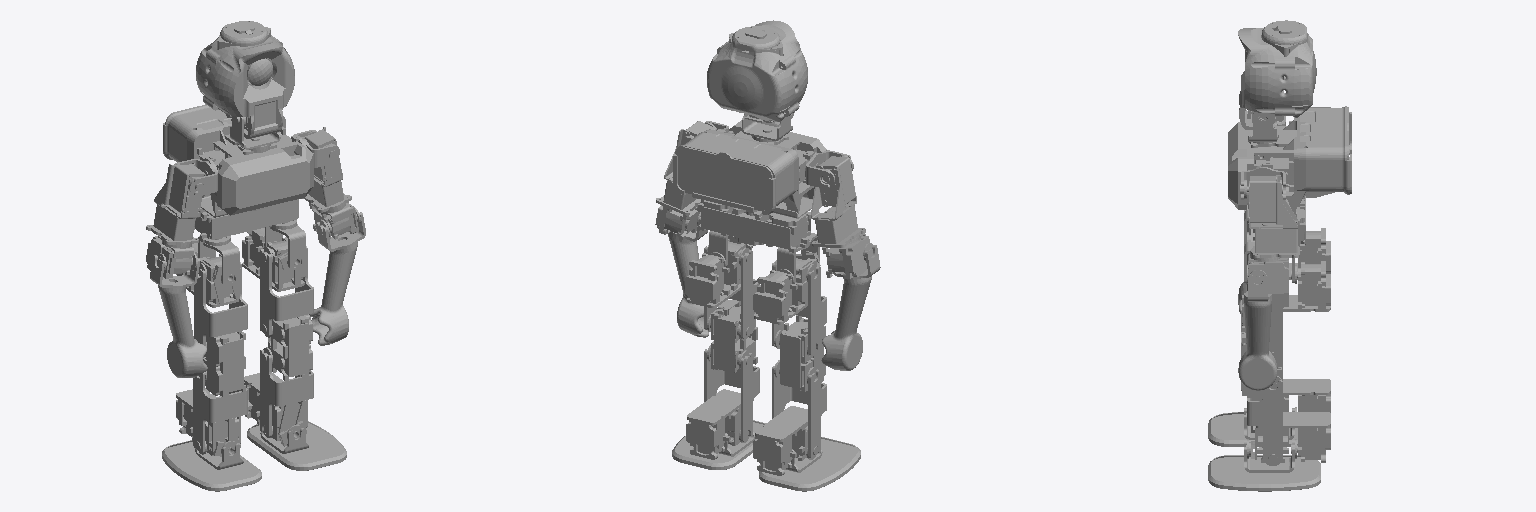
--- What the picture shows (computed from the rendered views, not written in the file) ---
Views: 3 orthographic renders of the robot side by side, from view 1: azimuth 30°, elevation 25°; view 2: azimuth 150°, elevation 25°; view 3: azimuth 270°, elevation 25°.
Robot: roki — 26 links, 25 joints (25 revolute); root link base_link; default pose: every joint at zero.
Links seen in each view (by area): view 1: base_link, Robot_Football_Player_SKS-2501_Head_B0348_Head_Base_06v1_1, Hand_Football_Player_05_1, Hand_Football_Player_05__1__1, roki_Robot_Football_Player_SKS-2501_Servov12_10__v1_1__1, Shoe_Flex_1, Shoe_Flex_1__1, Knee_1__1, Waist_1, Knee_1__1__1, roki2_simlify_Dual_Servo_Al_022Copyv1__1__1, Hip_Shin_Carbon_2 (+13 smaller); view 2: base_link, Robot_Football_Player_SKS-2501_Head_B0348_Head_Base_06v1_1, Waist_1, roki_Robot_Football_Player_SKS-2501_Servov12_10__v1_1__1, Hand_Football_Player_05__1__1, roki2_simlify_Dual_Servo_Al_022Copyv1_2, Dual_Servo_Al_022__1__1, Dual_Servo_Al_022_3, roki2_simlify_Dual_Servo_Al_022Copyv1__1__1, Shoe_Flex_1, Knee_1__1, Knee_1__1__1 (+12 smaller); view 3: base_link, Robot_Football_Player_SKS-2501_Head_B0348_Head_Base_06v1_1, roki_Robot_Football_Player_SKS-2501_Servov12_10_v1_1, Shoe_Flex_1__1, Hand_Football_Player_05_1, roki2_simlify_Dual_Servo_Al_022Copyv1_2, Hip_Shin_Carbon_1__1__1, roki2_simlify_Dual_Servo_Al_022Copyv1__1__1, Shoe_Flex_1, Dual_Servo_Al_022_3, Elbow_Bracket_01_1__1, Dual_Servo_Al_022__1__1 (+3 smaller).
Boxes of the visible links, box(x1,y1,x2,y2) form: base_link: box(163, 104, 313, 217); Robot_Football_Player_SKS-2501_Head_B0348_Head_Base_06v1_1: box(196, 21, 294, 138); Hand_Football_Player_05_1: box(309, 212, 365, 345); Hand_Football_Player_05__1__1: box(150, 255, 207, 377); roki_Robot_Football_Player_SKS-2501_Servov12_10__v1_1__1: box(146, 163, 205, 248); Shoe_Flex_1: box(162, 440, 261, 491); Shoe_Flex_1__1: box(247, 421, 346, 470); Knee_1__1: box(261, 314, 312, 381); Waist_1: box(194, 199, 298, 245); Knee_1__1__1: box(198, 332, 245, 396); roki2_simlify_Dual_Servo_Al_022Copyv1__1__1: box(242, 228, 307, 291); Hip_Shin_Carbon_2: box(260, 246, 313, 335); base_link: box(673, 120, 826, 218); Robot_Football_Player_SKS-2501_Head_B0348_Head_Base_06v1_1: box(707, 20, 807, 126); Waist_1: box(698, 199, 811, 252); roki_Robot_Football_Player_SKS-2501_Servov12_10__v1_1__1: box(811, 155, 865, 247); Hand_Football_Player_05__1__1: box(821, 245, 880, 370); roki2_simlify_Dual_Servo_Al_022Copyv1_2: box(686, 389, 749, 459); Dual_Servo_Al_022__1__1: box(753, 251, 820, 324); Dual_Servo_Al_022_3: box(753, 406, 818, 475); roki2_simlify_Dual_Servo_Al_022Copyv1__1__1: box(685, 235, 752, 307); Shoe_Flex_1: box(759, 437, 860, 491); Knee_1__1: box(707, 299, 757, 372); Knee_1__1__1: box(774, 315, 825, 391); base_link: box(1228, 106, 1351, 216); Robot_Football_Player_SKS-2501_Head_B0348_Head_Base_06v1_1: box(1238, 20, 1316, 129); roki_Robot_Football_Player_SKS-2501_Servov12_10_v1_1: box(1240, 175, 1299, 260); Shoe_Flex_1__1: box(1208, 441, 1320, 491); Hand_Football_Player_05_1: box(1238, 272, 1276, 390); roki2_simlify_Dual_Servo_Al_022Copyv1_2: box(1246, 412, 1330, 465); Hip_Shin_Carbon_1__1__1: box(1247, 380, 1282, 462); roki2_simlify_Dual_Servo_Al_022Copyv1__1__1: box(1247, 261, 1330, 311); Shoe_Flex_1: box(1208, 408, 1297, 446); Dual_Servo_Al_022_3: box(1246, 379, 1330, 432); Elbow_Bracket_01_1__1: box(1248, 254, 1288, 293); Dual_Servo_Al_022__1__1: box(1247, 228, 1330, 279).
Size in the robot's own frame: 0.2478 by 0.1469 by 0.4834 metres.
Meshes: 26 distinct files referenced, 26 mesh visuals loaded (26 binary STL).

URDF robot description (roki):
<?xml version="1.0" ?>
<!-- =================================================================================== -->
<!-- |    This document was autogenerated by xacro from roki                           | -->
<!-- |    EDITING THIS FILE BY HAND IS NOT RECOMMENDED                                 | -->
<!-- =================================================================================== -->
<robot xmlns:xacro="http://www.ros.org/wiki/xacro" name="roki">
  <material name="silver">
    <color rgba="0.700 0.700 0.700 1.000"/>
  </material>
  <transmission name="waist_yaw_tran">
    <type>transmission_interface/SimpleTransmission</type>
    <joint name="waist_yaw">
      <hardwareInterface>hardware_interface/EffortJointInterface</hardwareInterface>
    </joint>
    <actuator name="waist_yaw_actr">
      <hardwareInterface>hardware_interface/EffortJointInterface</hardwareInterface>
      <mechanicalReduction>1</mechanicalReduction>
    </actuator>
  </transmission>
  <transmission name="left_hip_yaw_tran">
    <type>transmission_interface/SimpleTransmission</type>
    <joint name="left_hip_yaw">
      <hardwareInterface>hardware_interface/EffortJointInterface</hardwareInterface>
    </joint>
    <actuator name="left_hip_yaw_actr">
      <hardwareInterface>hardware_interface/EffortJointInterface</hardwareInterface>
      <mechanicalReduction>1</mechanicalReduction>
    </actuator>
  </transmission>
  <transmission name="right_hip_yaw_tran">
    <type>transmission_interface/SimpleTransmission</type>
    <joint name="right_hip_yaw">
      <hardwareInterface>hardware_interface/EffortJointInterface</hardwareInterface>
    </joint>
    <actuator name="right_hip_yaw_actr">
      <hardwareInterface>hardware_interface/EffortJointInterface</hardwareInterface>
      <mechanicalReduction>1</mechanicalReduction>
    </actuator>
  </transmission>
  <transmission name="head_yaw_tran">
    <type>transmission_interface/SimpleTransmission</type>
    <joint name="head_yaw">
      <hardwareInterface>hardware_interface/EffortJointInterface</hardwareInterface>
    </joint>
    <actuator name="head_yaw_actr">
      <hardwareInterface>hardware_interface/EffortJointInterface</hardwareInterface>
      <mechanicalReduction>1</mechanicalReduction>
    </actuator>
  </transmission>
  <transmission name="head_pitch_tran">
    <type>transmission_interface/SimpleTransmission</type>
    <joint name="head_pitch">
      <hardwareInterface>hardware_interface/EffortJointInterface</hardwareInterface>
    </joint>
    <actuator name="head_pitch_actr">
      <hardwareInterface>hardware_interface/EffortJointInterface</hardwareInterface>
      <mechanicalReduction>1</mechanicalReduction>
    </actuator>
  </transmission>
  <transmission name="left_shoulder_roll_tran">
    <type>transmission_interface/SimpleTransmission</type>
    <joint name="left_shoulder_roll">
      <hardwareInterface>hardware_interface/EffortJointInterface</hardwareInterface>
    </joint>
    <actuator name="left_shoulder_roll_actr">
      <hardwareInterface>hardware_interface/EffortJointInterface</hardwareInterface>
      <mechanicalReduction>1</mechanicalReduction>
    </actuator>
  </transmission>
  <transmission name="right_shoulder_roll_tran">
    <type>transmission_interface/SimpleTransmission</type>
    <joint name="right_shoulder_roll">
      <hardwareInterface>hardware_interface/EffortJointInterface</hardwareInterface>
    </joint>
    <actuator name="right_shoulder_roll_actr">
      <hardwareInterface>hardware_interface/EffortJointInterface</hardwareInterface>
      <mechanicalReduction>1</mechanicalReduction>
    </actuator>
  </transmission>
  <transmission name="right_elbow_yaw_tran">
    <type>transmission_interface/SimpleTransmission</type>
    <joint name="right_elbow_yaw">
      <hardwareInterface>hardware_interface/EffortJointInterface</hardwareInterface>
    </joint>
    <actuator name="right_elbow_yaw_actr">
      <hardwareInterface>hardware_interface/EffortJointInterface</hardwareInterface>
      <mechanicalReduction>1</mechanicalReduction>
    </actuator>
  </transmission>
  <transmission name="left_elbow_yaw_tran">
    <type>transmission_interface/SimpleTransmission</type>
    <joint name="left_elbow_yaw">
      <hardwareInterface>hardware_interface/EffortJointInterface</hardwareInterface>
    </joint>
    <actuator name="left_elbow_yaw_actr">
      <hardwareInterface>hardware_interface/EffortJointInterface</hardwareInterface>
      <mechanicalReduction>1</mechanicalReduction>
    </actuator>
  </transmission>
  <transmission name="left_elbow_pitch_tran">
    <type>transmission_interface/SimpleTransmission</type>
    <joint name="left_elbow_pitch">
      <hardwareInterface>hardware_interface/EffortJointInterface</hardwareInterface>
    </joint>
    <actuator name="left_elbow_pitch_actr">
      <hardwareInterface>hardware_interface/EffortJointInterface</hardwareInterface>
      <mechanicalReduction>1</mechanicalReduction>
    </actuator>
  </transmission>
  <transmission name="right_elbow_pitch_tran">
    <type>transmission_interface/SimpleTransmission</type>
    <joint name="right_elbow_pitch">
      <hardwareInterface>hardware_interface/EffortJointInterface</hardwareInterface>
    </joint>
    <actuator name="right_elbow_pitch_actr">
      <hardwareInterface>hardware_interface/EffortJointInterface</hardwareInterface>
      <mechanicalReduction>1</mechanicalReduction>
    </actuator>
  </transmission>
  <transmission name="left_shoulder_pitch_tran">
    <type>transmission_interface/SimpleTransmission</type>
    <joint name="left_shoulder_pitch">
      <hardwareInterface>hardware_interface/EffortJointInterface</hardwareInterface>
    </joint>
    <actuator name="left_shoulder_pitch_actr">
      <hardwareInterface>hardware_interface/EffortJointInterface</hardwareInterface>
      <mechanicalReduction>1</mechanicalReduction>
    </actuator>
  </transmission>
  <transmission name="right_shoulder_pitch_tran">
    <type>transmission_interface/SimpleTransmission</type>
    <joint name="right_shoulder_pitch">
      <hardwareInterface>hardware_interface/EffortJointInterface</hardwareInterface>
    </joint>
    <actuator name="right_shoulder_pitch_actr">
      <hardwareInterface>hardware_interface/EffortJointInterface</hardwareInterface>
      <mechanicalReduction>1</mechanicalReduction>
    </actuator>
  </transmission>
  <transmission name="left_upper_knee_tran">
    <type>transmission_interface/SimpleTransmission</type>
    <joint name="left_upper_knee">
      <hardwareInterface>hardware_interface/EffortJointInterface</hardwareInterface>
    </joint>
    <actuator name="left_upper_knee_actr">
      <hardwareInterface>hardware_interface/EffortJointInterface</hardwareInterface>
      <mechanicalReduction>1</mechanicalReduction>
    </actuator>
  </transmission>
  <transmission name="left_bottom_knee_tran">
    <type>transmission_interface/SimpleTransmission</type>
    <joint name="left_bottom_knee">
      <hardwareInterface>hardware_interface/EffortJointInterface</hardwareInterface>
    </joint>
    <actuator name="left_bottom_knee_actr">
      <hardwareInterface>hardware_interface/EffortJointInterface</hardwareInterface>
      <mechanicalReduction>1</mechanicalReduction>
    </actuator>
  </transmission>
  <transmission name="right_upper_knee_tran">
    <type>transmission_interface/SimpleTransmission</type>
    <joint name="right_upper_knee">
      <hardwareInterface>hardware_interface/EffortJointInterface</hardwareInterface>
    </joint>
    <actuator name="right_upper_knee_actr">
      <hardwareInterface>hardware_interface/EffortJointInterface</hardwareInterface>
      <mechanicalReduction>1</mechanicalReduction>
    </actuator>
  </transmission>
  <transmission name="right_bottom_knee_tran">
    <type>transmission_interface/SimpleTransmission</type>
    <joint name="right_bottom_knee">
      <hardwareInterface>hardware_interface/EffortJointInterface</hardwareInterface>
    </joint>
    <actuator name="right_bottom_knee_actr">
      <hardwareInterface>hardware_interface/EffortJointInterface</hardwareInterface>
      <mechanicalReduction>1</mechanicalReduction>
    </actuator>
  </transmission>
  <transmission name="right_ankle_pitch_tran">
    <type>transmission_interface/SimpleTransmission</type>
    <joint name="right_ankle_pitch">
      <hardwareInterface>hardware_interface/EffortJointInterface</hardwareInterface>
    </joint>
    <actuator name="right_ankle_pitch_actr">
      <hardwareInterface>hardware_interface/EffortJointInterface</hardwareInterface>
      <mechanicalReduction>1</mechanicalReduction>
    </actuator>
  </transmission>
  <transmission name="left_ankle_roll_tran">
    <type>transmission_interface/SimpleTransmission</type>
    <joint name="left_ankle_roll">
      <hardwareInterface>hardware_interface/EffortJointInterface</hardwareInterface>
    </joint>
    <actuator name="left_ankle_roll_actr">
      <hardwareInterface>hardware_interface/EffortJointInterface</hardwareInterface>
      <mechanicalReduction>1</mechanicalReduction>
    </actuator>
  </transmission>
  <transmission name="left_ankle_pitch_tran">
    <type>transmission_interface/SimpleTransmission</type>
    <joint name="left_ankle_pitch">
      <hardwareInterface>hardware_interface/EffortJointInterface</hardwareInterface>
    </joint>
    <actuator name="left_ankle_pitch_actr">
      <hardwareInterface>hardware_interface/EffortJointInterface</hardwareInterface>
      <mechanicalReduction>1</mechanicalReduction>
    </actuator>
  </transmission>
  <transmission name="right_ankle_roll_tran">
    <type>transmission_interface/SimpleTransmission</type>
    <joint name="right_ankle_roll">
      <hardwareInterface>hardware_interface/EffortJointInterface</hardwareInterface>
    </joint>
    <actuator name="right_ankle_roll_actr">
      <hardwareInterface>hardware_interface/EffortJointInterface</hardwareInterface>
      <mechanicalReduction>1</mechanicalReduction>
    </actuator>
  </transmission>
  <transmission name="right_hip_roll_tran">
    <type>transmission_interface/SimpleTransmission</type>
    <joint name="right_hip_roll">
      <hardwareInterface>hardware_interface/EffortJointInterface</hardwareInterface>
    </joint>
    <actuator name="right_hip_roll_actr">
      <hardwareInterface>hardware_interface/EffortJointInterface</hardwareInterface>
      <mechanicalReduction>1</mechanicalReduction>
    </actuator>
  </transmission>
  <transmission name="left_hip_roll_tran">
    <type>transmission_interface/SimpleTransmission</type>
    <joint name="left_hip_roll">
      <hardwareInterface>hardware_interface/EffortJointInterface</hardwareInterface>
    </joint>
    <actuator name="left_hip_roll_actr">
      <hardwareInterface>hardware_interface/EffortJointInterface</hardwareInterface>
      <mechanicalReduction>1</mechanicalReduction>
    </actuator>
  </transmission>
  <transmission name="left_hip_pitch_tran">
    <type>transmission_interface/SimpleTransmission</type>
    <joint name="left_hip_pitch">
      <hardwareInterface>hardware_interface/EffortJointInterface</hardwareInterface>
    </joint>
    <actuator name="left_hip_pitch_actr">
      <hardwareInterface>hardware_interface/EffortJointInterface</hardwareInterface>
      <mechanicalReduction>1</mechanicalReduction>
    </actuator>
  </transmission>
  <transmission name="right_hip_pitch_tran">
    <type>transmission_interface/SimpleTransmission</type>
    <joint name="right_hip_pitch">
      <hardwareInterface>hardware_interface/EffortJointInterface</hardwareInterface>
    </joint>
    <actuator name="right_hip_pitch_actr">
      <hardwareInterface>hardware_interface/EffortJointInterface</hardwareInterface>
      <mechanicalReduction>1</mechanicalReduction>
    </actuator>
  </transmission>
  <gazebo>
    <plugin name="control" filename="libgazebo_ros_control.so"/>
  </gazebo>
  <gazebo reference="base_link">
    <material>Gazebo/Silver</material>
    <mu1>0.2</mu1>
    <mu2>0.2</mu2>
    <selfCollide>true</selfCollide>
    <gravity>true</gravity>
  </gazebo>
  <gazebo reference="Waist_1">
    <material>Gazebo/Silver</material>
    <mu1>0.2</mu1>
    <mu2>0.2</mu2>
    <selfCollide>true</selfCollide>
  </gazebo>
  <gazebo reference="U_Dual_Lever_Carbon_1__1">
    <material>Gazebo/Silver</material>
    <mu1>0.2</mu1>
    <mu2>0.2</mu2>
    <selfCollide>true</selfCollide>
  </gazebo>
  <gazebo reference="U_Dual_Lever_Carbon_2">
    <material>Gazebo/Silver</material>
    <mu1>0.2</mu1>
    <mu2>0.2</mu2>
    <selfCollide>true</selfCollide>
  </gazebo>
  <gazebo reference="Robot_Football_Player_SKS-2501_Neck_Carbonv2_1">
    <material>Gazebo/Silver</material>
    <mu1>0.2</mu1>
    <mu2>0.2</mu2>
    <selfCollide>true</selfCollide>
  </gazebo>
  <gazebo reference="Robot_Football_Player_SKS-2501_Head_B0348_Head_Base_06v1_1">
    <material>Gazebo/Silver</material>
    <mu1>0.2</mu1>
    <mu2>0.2</mu2>
    <selfCollide>true</selfCollide>
  </gazebo>
  <gazebo reference="roki_Robot_Football_Player_SKS-2501_Servov12_10_v1_1">
    <material>Gazebo/Silver</material>
    <mu1>0.2</mu1>
    <mu2>0.2</mu2>
    <selfCollide>true</selfCollide>
  </gazebo>
  <gazebo reference="roki_Robot_Football_Player_SKS-2501_Servov12_10__v1_1__1">
    <material>Gazebo/Silver</material>
    <mu1>0.2</mu1>
    <mu2>0.2</mu2>
    <selfCollide>true</selfCollide>
  </gazebo>
  <gazebo reference="Elbow_Bracket_01_1">
    <material>Gazebo/Silver</material>
    <mu1>0.2</mu1>
    <mu2>0.2</mu2>
    <selfCollide>true</selfCollide>
  </gazebo>
  <gazebo reference="Elbow_Bracket_01_1__1">
    <material>Gazebo/Silver</material>
    <mu1>0.2</mu1>
    <mu2>0.2</mu2>
    <selfCollide>true</selfCollide>
  </gazebo>
  <gazebo reference="Hand_Football_Player_05_1">
    <material>Gazebo/Silver</material>
    <mu1>0.2</mu1>
    <mu2>0.2</mu2>
    <selfCollide>true</selfCollide>
  </gazebo>
  <gazebo reference="Hand_Football_Player_05__1__1">
    <material>Gazebo/Silver</material>
    <mu1>0.2</mu1>
    <mu2>0.2</mu2>
    <selfCollide>true</selfCollide>
  </gazebo>
  <gazebo reference="U_Lever_Carbon_2__1">
    <material>Gazebo/Silver</material>
    <mu1>0.2</mu1>
    <mu2>0.2</mu2>
    <selfCollide>true</selfCollide>
  </gazebo>
  <gazebo reference="U_Lever_Carbon_1__1">
    <material>Gazebo/Silver</material>
    <mu1>0.2</mu1>
    <mu2>0.2</mu2>
    <selfCollide>true</selfCollide>
  </gazebo>
  <gazebo reference="Knee_1__1">
    <material>Gazebo/Silver</material>
    <mu1>0.2</mu1>
    <mu2>0.2</mu2>
    <selfCollide>true</selfCollide>
  </gazebo>
  <gazebo reference="Hip_Shin_Carbon_1__1__1">
    <material>Gazebo/Silver</material>
    <mu1>0.2</mu1>
    <mu2>0.2</mu2>
    <selfCollide>true</selfCollide>
  </gazebo>
  <gazebo reference="Knee_1__1__1">
    <material>Gazebo/Silver</material>
    <mu1>0.2</mu1>
    <mu2>0.2</mu2>
    <selfCollide>true</selfCollide>
  </gazebo>
  <gazebo reference="Hip_Shin_Carbon_2__1">
    <material>Gazebo/Silver</material>
    <mu1>0.2</mu1>
    <mu2>0.2</mu2>
    <selfCollide>true</selfCollide>
  </gazebo>
  <gazebo reference="Dual_Servo_Al_022_3">
    <material>Gazebo/Silver</material>
    <mu1>0.2</mu1>
    <mu2>0.2</mu2>
    <selfCollide>true</selfCollide>
  </gazebo>
  <gazebo reference="Shoe_Flex_1__1">
    <material>Gazebo/Silver</material>
    <mu1>0.2</mu1>
    <mu2>0.2</mu2>
    <selfCollide>true</selfCollide>
  </gazebo>
  <gazebo reference="roki2_simlify_Dual_Servo_Al_022Copyv1_2">
    <material>Gazebo/Silver</material>
    <mu1>0.2</mu1>
    <mu2>0.2</mu2>
    <selfCollide>true</selfCollide>
  </gazebo>
  <gazebo reference="Shoe_Flex_1">
    <material>Gazebo/Silver</material>
    <mu1>0.2</mu1>
    <mu2>0.2</mu2>
    <selfCollide>true</selfCollide>
  </gazebo>
  <gazebo reference="Dual_Servo_Al_022__1__1">
    <material>Gazebo/Silver</material>
    <mu1>0.2</mu1>
    <mu2>0.2</mu2>
    <selfCollide>true</selfCollide>
  </gazebo>
  <gazebo reference="roki2_simlify_Dual_Servo_Al_022Copyv1__1__1">
    <material>Gazebo/Silver</material>
    <mu1>0.2</mu1>
    <mu2>0.2</mu2>
    <selfCollide>true</selfCollide>
  </gazebo>
  <gazebo reference="Hip_Shin_Carbon_2">
    <material>Gazebo/Silver</material>
    <mu1>0.2</mu1>
    <mu2>0.2</mu2>
    <selfCollide>true</selfCollide>
  </gazebo>
  <gazebo reference="Hip_Shin_Carbon_1__1">
    <material>Gazebo/Silver</material>
    <mu1>0.2</mu1>
    <mu2>0.2</mu2>
    <selfCollide>true</selfCollide>
  </gazebo>
  <link name="base_link">
    <inertial>
      <origin xyz="2.9200028407238833e-05 0.03136339266823339 0.049232642874940113" rpy="0 0 0"/>
      <mass value="0.6978470671486154"/>
      <inertia ixx="0.000836" iyy="0.000655" izz="0.001221" ixy="-1e-06" iyz="-4.8e-05" ixz="-0.0"/>
    </inertial>
    <visual>
      <origin xyz="0 0 0" rpy="0 0 0"/>
      <geometry>
        <mesh filename="package://roki_description/meshes/base_link.stl"/>
      </geometry>
      <material name="silver"/>
    </visual>
    <collision>
      <origin xyz="0 0 0" rpy="0 0 0"/>
      <geometry>
        <mesh filename="package://roki_description/meshes/col_base_link.stl"/>
      </geometry>
    </collision>
  </link>
  <link name="Waist_1">
    <inertial>
      <origin xyz="2.308951126554241e-05 0.010043771263089902 -0.019580735770714907" rpy="0 0 0"/>
      <mass value="0.15761065350197656"/>
      <inertia ixx="4.5e-05" iyy="0.000189" izz="0.000199" ixy="-0.0" iyz="-1e-06" ixz="0.0"/>
    </inertial>
    <visual>
      <origin xyz="0.0 -0.0 -0.0039" rpy="0 0 0"/>
      <geometry>
        <mesh filename="package://roki_description/meshes/Waist_1.stl"/>
      </geometry>
      <material name="silver"/>
    </visual>
    <collision>
      <origin xyz="0.0 -0.0 -0.0039" rpy="0 0 0"/>
      <geometry>
        <mesh filename="package://roki_description/meshes/col_Waist_1.stl"/>
      </geometry>
    </collision>
  </link>
  <link name="U_Dual_Lever_Carbon_1__1">
    <inertial>
      <origin xyz="4.508199369368526e-14 -0.00459793550468748 -0.010314227100914147" rpy="0 0 0"/>
      <mass value="0.009545203780731138"/>
      <inertia ixx="5e-06" iyy="1e-06" izz="4e-06" ixy="-0.0" iyz="-0.0" ixz="-0.0"/>
    </inertial>
    <visual>
      <origin xyz="-0.04 0.0 0.0339" rpy="0 0 0"/>
      <geometry>
        <mesh filename="package://roki_description/meshes/U_Dual_Lever_Carbon_1__1.stl"/>
      </geometry>
      <material name="silver"/>
    </visual>
    <collision>
      <origin xyz="-0.04 0.0 0.0339" rpy="0 0 0"/>
      <geometry>
        <mesh filename="package://roki_description/meshes/col_U_Dual_Lever_Carbon_1__1.stl"/>
      </geometry>
    </collision>
  </link>
  <link name="U_Dual_Lever_Carbon_2">
    <inertial>
      <origin xyz="4.5900783174346316e-14 -0.004597935504687689 -0.010314227100913793" rpy="0 0 0"/>
      <mass value="0.009545203780731142"/>
      <inertia ixx="5e-06" iyy="1e-06" izz="4e-06" ixy="-0.0" iyz="-0.0" ixz="-0.0"/>
    </inertial>
    <visual>
      <origin xyz="0.04 0.0 0.0339" rpy="0 0 0"/>
      <geometry>
        <mesh filename="package://roki_description/meshes/U_Dual_Lever_Carbon_2.stl"/>
      </geometry>
      <material name="silver"/>
    </visual>
    <collision>
      <origin xyz="0.04 0.0 0.0339" rpy="0 0 0"/>
      <geometry>
        <mesh filename="package://roki_description/meshes/col_U_Dual_Lever_Carbon_2.stl"/>
      </geometry>
    </collision>
  </link>
  <link name="Robot_Football_Player_SKS-2501_Neck_Carbonv2_1">
    <inertial>
      <origin xyz="1.59054234997918e-07 0.0004029194592024207 0.00889294708045188" rpy="0 0 0"/>
      <mass value="0.006889915174480099"/>
      <inertia ixx="1e-06" iyy="3e-06" izz="3e-06" ixy="0.0" iyz="-0.0" ixz="-0.0"/>
    </inertial>
    <visual>
      <origin xyz="-2.5e-05 0.011152 -0.07478" rpy="0 0 0"/>
      <geometry>
        <mesh filename="package://roki_description/meshes/Robot_Football_Player_SKS-2501_Neck_Carbonv2_1.stl"/>
      </geometry>
      <material name="silver"/>
    </visual>
    <collision>
      <origin xyz="-2.5e-05 0.011152 -0.07478" rpy="0 0 0"/>
      <geometry>
        <mesh filename="package://roki_description/meshes/col_Robot_Football_Player_SKS-2501_Neck_Carbonv2_1.stl"/>
      </geometry>
    </collision>
  </link>
  <link name="Robot_Football_Player_SKS-2501_Head_B0348_Head_Base_06v1_1">
    <inertial>
      <origin xyz="0.019224047998985833 0.015494041418051888 0.03424850028891592" rpy="0 0 0"/>
      <mass value="0.26416283236894345"/>
      <inertia ixx="0.000253" iyy="0.000229" izz="0.000221" ixy="0.0" iyz="-3.3e-05" ixz="-3e-06"/>
    </inertial>
    <visual>
      <origin xyz="0.019975 0.011152 -0.10478" rpy="0 0 0"/>
      <geometry>
        <mesh filename="package://roki_description/meshes/Robot_Football_Player_SKS-2501_Head_B0348_Head_Base_06v1_1.stl"/>
      </geometry>
      <material name="silver"/>
    </visual>
    <collision>
      <origin xyz="0.019975 0.011152 -0.10478" rpy="0 0 0"/>
      <geometry>
        <mesh filename="package://roki_description/meshes/col_Robot_Football_Player_SKS-2501_Head_B0348_Head_Base_06v1_1.stl"/>
      </geometry>
    </collision>
  </link>
  <link name="roki_Robot_Football_Player_SKS-2501_Servov12_10_v1_1">
    <inertial>
      <origin xyz="0.0058858874958540724 0.028181458629030074 -0.03337571755207666" rpy="0 0 0"/>
      <mass value="0.12983667443511107"/>
      <inertia ixx="9.4e-05" iyy="7.7e-05" izz="3.4e-05" ixy="-3e-06" iyz="1.9e-05" ixz="1.1e-05"/>
    </inertial>
    <visual>
      <origin xyz="-0.0799 0.03121 -0.0494" rpy="0 0 0"/>
      <geometry>
        <mesh filename="package://roki_description/meshes/roki_Robot_Football_Player_SKS-2501_Servov12_10_v1_1.stl"/>
      </geometry>
      <material name="silver"/>
    </visual>
    <collision>
      <origin xyz="-0.0799 0.03121 -0.0494" rpy="0 0 0"/>
      <geometry>
        <mesh filename="package://roki_description/meshes/col_roki_Robot_Football_Player_SKS-2501_Servov12_10_v1_1.stl"/>
      </geometry>
    </collision>
  </link>
  <link name="roki_Robot_Football_Player_SKS-2501_Servov12_10__v1_1__1">
    <inertial>
      <origin xyz="-0.0058842426537036585 0.028181458629013886 -0.03337600758181479" rpy="0 0 0"/>
      <mass value="0.12983667443511687"/>
      <inertia ixx="9.4e-05" iyy="7.7e-05" izz="3.4e-05" ixy="3e-06" iyz="1.9e-05" ixz="-1.1e-05"/>
    </inertial>
    <visual>
      <origin xyz="0.0799 0.03121 -0.0494" rpy="0 0 0"/>
      <geometry>
        <mesh filename="package://roki_description/meshes/roki_Robot_Football_Player_SKS-2501_Servov12_10__v1_1__1.stl"/>
      </geometry>
      <material name="silver"/>
    </visual>
    <collision>
      <origin xyz="0.0799 0.03121 -0.0494" rpy="0 0 0"/>
      <geometry>
        <mesh filename="package://roki_description/meshes/col_roki_Robot_Football_Player_SKS-2501_Servov12_10__v1_1__1.stl"/>
      </geometry>
    </collision>
  </link>
  <link name="Elbow_Bracket_01_1">
    <inertial>
      <origin xyz="-0.004047474545655377 0.0010168978596869216 -0.016722696886682605" rpy="0 0 0"/>
      <mass value="0.05553085932222209"/>
      <inertia ixx="1.2e-05" iyy="1.1e-05" izz="1.6e-05" ixy="0.0" iyz="0.0" ixz="1e-06"/>
    </inertial>
    <visual>
      <origin xyz="0.09239 0.008635 0.021432" rpy="0 0 0"/>
      <geometry>
        <mesh filename="package://roki_description/meshes/Elbow_Bracket_01_1.stl"/>
      </geometry>
      <material name="silver"/>
    </visual>
    <collision>
      <origin xyz="0.09239 0.008635 0.021432" rpy="0 0 0"/>
      <geometry>
        <mesh filename="package://roki_description/meshes/col_Elbow_Bracket_01_1.stl"/>
      </geometry>
    </collision>
  </link>
  <link name="Elbow_Bracket_01_1__1">
    <inertial>
      <origin xyz="0.004047474545655905 0.0010168978596869606 -0.016722696886683375" rpy="0 0 0"/>
      <mass value="0.055530859322222265"/>
      <inertia ixx="1.2e-05" iyy="1.1e-05" izz="1.6e-05" ixy="-0.0" iyz="0.0" ixz="-1e-06"/>
    </inertial>
    <visual>
      <origin xyz="-0.09239 0.008635 0.021432" rpy="0 0 0"/>
      <geometry>
        <mesh filename="package://roki_description/meshes/Elbow_Bracket_01_1__1.stl"/>
      </geometry>
      <material name="silver"/>
    </visual>
    <collision>
      <origin xyz="-0.09239 0.008635 0.021432" rpy="0 0 0"/>
      <geometry>
        <mesh filename="package://roki_description/meshes/col_Elbow_Bracket_01_1__1.stl"/>
      </geometry>
    </collision>
  </link>
  <link name="Hand_Football_Player_05_1">
    <inertial>
      <origin xyz="0.015641121769252822 1.938563667230886e-08 -0.06739227885463536" rpy="0 0 0"/>
      <mass value="0.048927254647909736"/>
      <inertia ixx="8.2e-05" iyy="8.4e-05" izz="1.1e-05" ixy="-0.0" iyz="-0.0" ixz="-1.2e-05"/>
    </inertial>
    <visual>
      <origin xyz="-0.07838 0.016535 0.04218" rpy="0 0 0"/>
      <geometry>
        <mesh filename="package://roki_description/meshes/Hand_Football_Player_05_1.stl"/>
      </geometry>
      <material name="silver"/>
    </visual>
    <collision>
      <origin xyz="-0.07838 0.016535 0.04218" rpy="0 0 0"/>
      <geometry>
        <mesh filename="package://roki_description/meshes/col_Hand_Football_Player_05_1.stl"/>
      </geometry>
    </collision>
  </link>
  <link name="Hand_Football_Player_05__1__1">
    <inertial>
      <origin xyz="-0.015641121769251268 -1.9385632887142235e-08 -0.06739227885463595" rpy="0 0 0"/>
      <mass value="0.04892725464790963"/>
      <inertia ixx="8.2e-05" iyy="8.4e-05" izz="1.1e-05" ixy="-0.0" iyz="0.0" ixz="1.2e-05"/>
    </inertial>
    <visual>
      <origin xyz="0.07838 0.016535 0.04218" rpy="0 0 0"/>
      <geometry>
        <mesh filename="package://roki_description/meshes/Hand_Football_Player_05__1__1.stl"/>
      </geometry>
      <material name="silver"/>
    </visual>
    <collision>
      <origin xyz="0.07838 0.016535 0.04218" rpy="0 0 0"/>
      <geometry>
        <mesh filename="package://roki_description/meshes/col_Hand_Football_Player_05__1__1.stl"/>
      </geometry>
    </collision>
  </link>
  <link name="U_Lever_Carbon_2__1">
    <inertial>
      <origin xyz="0.007714216006614476 4.458239333260394e-16 -2.4577562207639403e-14" rpy="0 0 0"/>
      <mass value="0.007572394947205684"/>
      <inertia ixx="3e-06" iyy="1e-06" izz="3e-06" ixy="0.0" iyz="0.0" ixz="-0.0"/>
    </inertial>
    <visual>
      <origin xyz="-0.0559 0.01121 -0.0494" rpy="0 0 0"/>
      <geometry>
        <mesh filename="package://roki_description/meshes/U_Lever_Carbon_2__1.stl"/>
      </geometry>
      <material name="silver"/>
    </visual>
    <collision>
      <origin xyz="-0.0559 0.01121 -0.0494" rpy="0 0 0"/>
      <geometry>
        <mesh filename="package://roki_description/meshes/col_U_Lever_Carbon_2__1.stl"/>
      </geometry>
    </collision>
  </link>
  <link name="U_Lever_Carbon_1__1">
    <inertial>
      <origin xyz="-0.007714216006614295 2.393918396847994e-16 -2.4195923042924505e-14" rpy="0 0 0"/>
      <mass value="0.007572394947205684"/>
      <inertia ixx="3e-06" iyy="1e-06" izz="3e-06" ixy="0.0" iyz="-0.0" ixz="0.0"/>
    </inertial>
    <visual>
      <origin xyz="0.0559 0.01121 -0.0494" rpy="0 0 0"/>
      <geometry>
        <mesh filename="package://roki_description/meshes/U_Lever_Carbon_1__1.stl"/>
      </geometry>
      <material name="silver"/>
    </visual>
    <collision>
      <origin xyz="0.0559 0.01121 -0.0494" rpy="0 0 0"/>
      <geometry>
        <mesh filename="package://roki_description/meshes/col_U_Lever_Carbon_1__1.stl"/>
      </geometry>
    </collision>
  </link>
  <link name="Knee_1__1">
    <inertial>
      <origin xyz="0.01861091530213354 -0.009330309461074559 -0.016566663881952354" rpy="0 0 0"/>
      <mass value="0.10930325968922582"/>
      <inertia ixx="5.3e-05" iyy="5e-05" izz="3.3e-05" ixy="0.0" iyz="-0.0" ixz="-0.0"/>
    </inertial>
    <visual>
      <origin xyz="-0.0196 0.001 0.1484" rpy="0 0 0"/>
      <geometry>
        <mesh filename="package://roki_description/meshes/Knee_1__1.stl"/>
      </geometry>
      <material name="silver"/>
    </visual>
    <collision>
      <origin xyz="-0.0196 0.001 0.1484" rpy="0 0 0"/>
      <geometry>
        <mesh filename="package://roki_description/meshes/col_Knee_1__1.stl"/>
      </geometry>
    </collision>
  </link>
  <link name="Hip_Shin_Carbon_1__1__1">
    <inertial>
      <origin xyz="0.01999999999999781 -0.00810351282531593 -0.03792612915551327" rpy="0 0 0"/>
      <mass value="0.022625400240065405"/>
      <inertia ixx="1.3e-05" iyy="1.8e-05" izz="1.2e-05" ixy="-0.0" iyz="1e-06" ixz="-0.0"/>
    </inertial>
    <visual>
      <origin xyz="-0.0196 0.001 0.1814" rpy="0 0 0"/>
      <geometry>
        <mesh filename="package://roki_description/meshes/Hip_Shin_Carbon_1__1__1.stl"/>
      </geometry>
      <material name="silver"/>
    </visual>
    <collision>
      <origin xyz="-0.0196 0.001 0.1814" rpy="0 0 0"/>
      <geometry>
        <mesh filename="package://roki_description/meshes/col_Hip_Shin_Carbon_1__1__1.stl"/>
      </geometry>
    </collision>
  </link>
  <link name="Knee_1__1__1">
    <inertial>
      <origin xyz="0.021189084697862258 -0.009330309461045357 -0.016566663882006533" rpy="0 0 0"/>
      <mass value="0.10930325968922545"/>
      <inertia ixx="5.3e-05" iyy="5e-05" izz="3.3e-05" ixy="-0.0" iyz="-0.0" ixz="0.0"/>
    </inertial>
    <visual>
      <origin xyz="0.0596 0.001 0.1484" rpy="0 0 0"/>
      <geometry>
        <mesh filename="package://roki_description/meshes/Knee_1__1__1.stl"/>
      </geometry>
      <material name="silver"/>
    </visual>
    <collision>
      <origin xyz="0.0596 0.001 0.1484" rpy="0 0 0"/>
      <geometry>
        <mesh filename="package://roki_description/meshes/col_Knee_1__1__1.stl"/>
      </geometry>
    </collision>
  </link>
  <link name="Hip_Shin_Carbon_2__1">
    <inertial>
      <origin xyz="-0.020000000000005392 -0.008103512825321298 -0.03792612915550861" rpy="0 0 0"/>
      <mass value="0.022625400240065388"/>
      <inertia ixx="1.3e-05" iyy="1.8e-05" izz="1.2e-05" ixy="-0.0" iyz="1e-06" ixz="-0.0"/>
    </inertial>
    <visual>
      <origin xyz="0.0198 0.001 0.1814" rpy="0 0 0"/>
      <geometry>
        <mesh filename="package://roki_description/meshes/Hip_Shin_Carbon_2__1.stl"/>
      </geometry>
      <material name="silver"/>
    </visual>
    <collision>
      <origin xyz="0.0198 0.001 0.1814" rpy="0 0 0"/>
      <geometry>
        <mesh filename="package://roki_description/meshes/col_Hip_Shin_Carbon_2__1.stl"/>
      </geometry>
    </collision>
  </link>
  <link name="Dual_Servo_Al_022_3">
    <inertial>
      <origin xyz="0.019442839528037853 0.015065566617809313 0.011274811249782246" rpy="0 0 0"/>
      <mass value="0.11852191596762508"/>
      <inertia ixx="8.3e-05" iyy="3.3e-05" izz="7.2e-05" ixy="-1e-06" iyz="-7e-06" ixz="-0.0"/>
    </inertial>
    <visual>
      <origin xyz="0.0598 0.001 0.2639" rpy="0 0 0"/>
      <geometry>
        <mesh filename="package://roki_description/meshes/Dual_Servo_Al_022_3.stl"/>
      </geometry>
      <material name="silver"/>
    </visual>
    <collision>
      <origin xyz="0.0598 0.001 0.2639" rpy="0 0 0"/>
      <geometry>
        <mesh filename="package://roki_description/meshes/col_Dual_Servo_Al_022_3.stl"/>
      </geometry>
    </collision>
  </link>
  <link name="Shoe_Flex_1__1">
    <inertial>
      <origin xyz="0.01077197187732682 -0.029657932964981537 -0.020426201063386384" rpy="0 0 0"/>
      <mass value="0.05098521202956298"/>
      <inertia ixx="4.7e-05" iyy="2.1e-05" izz="6.6e-05" ixy="0.0" iyz="-0.0" ixz="1e-06"/>
    </inertial>
    <visual>
      <origin xyz="-0.039 -0.0211 0.2639" rpy="0 0 0"/>
      <geometry>
        <mesh filename="package://roki_description/meshes/Shoe_Flex_1__1.stl"/>
      </geometry>
      <material name="silver"/>
    </visual>
    <collision>
      <origin xyz="-0.039 -0.0211 0.2639" rpy="0 0 0"/>
      <geometry>
        <mesh filename="package://roki_description/meshes/col_Shoe_Flex_1__1.stl"/>
      </geometry>
    </collision>
  </link>
  <link name="roki2_simlify_Dual_Servo_Al_022Copyv1_2">
    <inertial>
      <origin xyz="0.020357428670802896 0.015064587409574209 0.011268101437178046" rpy="0 0 0"/>
      <mass value="0.1185219159610662"/>
      <inertia ixx="8.3e-05" iyy="3.3e-05" izz="7.2e-05" ixy="1e-06" iyz="-7e-06" ixz="0.0"/>
    </inertial>
    <visual>
      <origin xyz="-0.0196 0.001 0.2639" rpy="0 0 0"/>
      <geometry>
        <mesh filename="package://roki_description/meshes/roki2_simlify_Dual_Servo_Al_022Copyv1_2.stl"/>
      </geometry>
      <material name="silver"/>
    </visual>
    <collision>
      <origin xyz="-0.0196 0.001 0.2639" rpy="0 0 0"/>
      <geometry>
        <mesh filename="package://roki_description/meshes/col_roki2_simlify_Dual_Servo_Al_022Copyv1_2.stl"/>
      </geometry>
    </collision>
  </link>
  <link name="Shoe_Flex_1">
    <inertial>
      <origin xyz="-0.010772002418327563 0.01894180700262037 -0.02042626598922509" rpy="0 0 0"/>
      <mass value="0.05098531070774809"/>
      <inertia ixx="4.7e-05" iyy="2.1e-05" izz="6.6e-05" ixy="-0.0" iyz="-0.0" ixz="-1e-06"/>
    </inertial>
    <visual>
      <origin xyz="0.039394 0.027478 0.263751" rpy="0 0 0"/>
      <geometry>
        <mesh filename="package://roki_description/meshes/Shoe_Flex_1.stl"/>
      </geometry>
      <material name="silver"/>
    </visual>
    <collision>
      <origin xyz="0.039394 0.027478 0.263751" rpy="0 0 0"/>
      <geometry>
        <mesh filename="package://roki_description/meshes/col_Shoe_Flex_1.stl"/>
      </geometry>
    </collision>
  </link>
  <link name="Dual_Servo_Al_022__1__1">
    <inertial>
      <origin xyz="0.0009571604719541549 -0.007034433382188548 -0.011274811249774988" rpy="0 0 0"/>
      <mass value="0.11852191596762508"/>
      <inertia ixx="8.3e-05" iyy="3.3e-05" izz="7.2e-05" ixy="1e-06" iyz="7e-06" ixz="-0.0"/>
    </inertial>
    <visual>
      <origin xyz="0.04 -0.0211 0.0659" rpy="0 0 0"/>
      <geometry>
        <mesh filename="package://roki_description/meshes/Dual_Servo_Al_022__1__1.stl"/>
      </geometry>
      <material name="silver"/>
    </visual>
    <collision>
      <origin xyz="0.04 -0.0211 0.0659" rpy="0 0 0"/>
      <geometry>
        <mesh filename="package://roki_description/meshes/col_Dual_Servo_Al_022__1__1.stl"/>
      </geometry>
    </collision>
  </link>
  <link name="roki2_simlify_Dual_Servo_Al_022Copyv1__1__1">
    <inertial>
      <origin xyz="-0.0009574286708060598 -0.0070354125904229115 -0.011268101437177519" rpy="0 0 0"/>
      <mass value="0.1185219159610662"/>
      <inertia ixx="8.3e-05" iyy="3.3e-05" izz="7.2e-05" ixy="-1e-06" iyz="7e-06" ixz="0.0"/>
    </inertial>
    <visual>
      <origin xyz="-0.04 -0.0211 0.0659" rpy="0 0 0"/>
      <geometry>
        <mesh filename="package://roki_description/meshes/roki2_simlify_Dual_Servo_Al_022Copyv1__1__1.stl"/>
      </geometry>
      <material name="silver"/>
    </visual>
    <collision>
      <origin xyz="-0.04 -0.0211 0.0659" rpy="0 0 0"/>
      <geometry>
        <mesh filename="package://roki_description/meshes/col_roki2_simlify_Dual_Servo_Al_022Copyv1__1__1.stl"/>
      </geometry>
    </collision>
  </link>
  <link name="Hip_Shin_Carbon_2">
    <inertial>
      <origin xyz="0.019999999999999296 -0.008103512825317922 -0.04457387084448518" rpy="0 0 0"/>
      <mass value="0.022625400240065388"/>
      <inertia ixx="1.3e-05" iyy="1.8e-05" izz="1.2e-05" ixy="0.0" iyz="-1e-06" ixz="0.0"/>
    </inertial>
    <visual>
      <origin xyz="-0.0196 0.001 0.0659" rpy="0 0 0"/>
      <geometry>
        <mesh filename="package://roki_description/meshes/Hip_Shin_Carbon_2.stl"/>
      </geometry>
      <material name="silver"/>
    </visual>
    <collision>
      <origin xyz="-0.0196 0.001 0.0659" rpy="0 0 0"/>
      <geometry>
        <mesh filename="package://roki_description/meshes/col_Hip_Shin_Carbon_2.stl"/>
      </geometry>
    </collision>
  </link>
  <link name="Hip_Shin_Carbon_1__1">
    <inertial>
      <origin xyz="-0.0200000000000011 -0.00810351282531565 -0.044573870844484706" rpy="0 0 0"/>
      <mass value="0.022625400240065405"/>
      <inertia ixx="1.3e-05" iyy="1.8e-05" izz="1.2e-05" ixy="0.0" iyz="-1e-06" ixz="-0.0"/>
    </inertial>
    <visual>
      <origin xyz="0.0196 0.001 0.0659" rpy="0 0 0"/>
      <geometry>
        <mesh filename="package://roki_description/meshes/Hip_Shin_Carbon_1__1.stl"/>
      </geometry>
      <material name="silver"/>
    </visual>
    <collision>
      <origin xyz="0.0196 0.001 0.0659" rpy="0 0 0"/>
      <geometry>
        <mesh filename="package://roki_description/meshes/col_Hip_Shin_Carbon_1__1.stl"/>
      </geometry>
    </collision>
  </link>
  <joint name="waist_yaw" type="revolute">
    <origin xyz="0.0 0.0 0.0039" rpy="0 0 0"/>
    <parent link="base_link"/>
    <child link="Waist_1"/>
    <axis xyz="-0.0 -0.0 -1.0"/>
     <limit upper="0.523599" lower="-0.523599" effort="100" velocity="100"/>
  </joint>
  <joint name="left_hip_yaw" type="revolute">
    <origin xyz="0.04 -0.0 -0.0378" rpy="0 0 0"/>
    <parent link="Waist_1"/>
    <child link="U_Dual_Lever_Carbon_1__1"/>
    <axis xyz="-0.0 -0.0 -1.0"/>
    <limit upper="0.523599" lower="-0.523599" effort="100" velocity="100"/>
  </joint>
  <joint name="right_hip_yaw" type="revolute">
    <origin xyz="-0.04 -0.0 -0.0378" rpy="0 0 0"/>
    <parent link="Waist_1"/>
    <child link="U_Dual_Lever_Carbon_2"/>
    <axis xyz="-0.0 -0.0 -1.0"/>
    <limit upper="0.523599" lower="-0.523599" effort="100" velocity="100"/>
  </joint>
  <joint name="head_yaw" type="revolute">
    <origin xyz="2.5e-05 -0.011152 0.07478" rpy="0 0 0"/>
    <parent link="base_link"/>
    <child link="Robot_Football_Player_SKS-2501_Neck_Carbonv2_1"/>
    <axis xyz="0.0 -0.0 1.0"/>
    <limit upper="0.785398" lower="-0.785398" effort="100" velocity="100"/>
  </joint>
  <joint name="head_pitch" type="revolute">
    <origin xyz="-0.02 0.0 0.03" rpy="0 0 0"/>
    <parent link="Robot_Football_Player_SKS-2501_Neck_Carbonv2_1"/>
    <child link="Robot_Football_Player_SKS-2501_Head_B0348_Head_Base_06v1_1"/>
    <axis xyz="-1.0 -0.0 0.0"/>
    <limit upper="0.698132" lower="-1.919862" effort="100" velocity="100"/>
  </joint>
  <joint name="left_shoulder_roll" type="revolute">
    <origin xyz="0.024 -0.02 0.0" rpy="0 0 0"/>
    <parent link="U_Lever_Carbon_2__1"/>
    <child link="roki_Robot_Football_Player_SKS-2501_Servov12_10_v1_1"/>
    <axis xyz="-0.0 -1.0 0.0"/>
    <limit upper="2.96706" lower="0.0" effort="100" velocity="100"/>
  </joint>
  <joint name="right_shoulder_roll" type="revolute">
    <origin xyz="-0.024 -0.02 0.0" rpy="0 0 0"/>
    <parent link="U_Lever_Carbon_1__1"/>
    <child link="roki_Robot_Football_Player_SKS-2501_Servov12_10__v1_1__1"/>
    <axis xyz="-0.0 -1.0 -0.0"/>
    <limit upper="0.0" lower="-2.96706" effort="100" velocity="100"/>
  </joint>
  <joint name="right_elbow_yaw" type="revolute">
    <origin xyz="-0.01249 0.022575 -0.070832" rpy="0 0 0"/>
    <parent link="roki_Robot_Football_Player_SKS-2501_Servov12_10__v1_1__1"/>
    <child link="Elbow_Bracket_01_1"/>
    <axis xyz="-0.173648 -0.0 -0.984808"/>
    <limit upper="1.570796" lower="-1.570796" effort="100" velocity="100"/>
  </joint>
  <joint name="left_elbow_yaw" type="revolute">
    <origin xyz="0.01249 0.022575 -0.070832" rpy="0 0 0"/>
    <parent link="roki_Robot_Football_Player_SKS-2501_Servov12_10_v1_1"/>
    <child link="Elbow_Bracket_01_1__1"/>
    <axis xyz="0.173648 0.0 -0.984808"/>
    <limit upper="1.570796" lower="-1.570796" effort="100" velocity="100"/>
  </joint>
  <joint name="left_elbow_pitch" type="revolute">
    <origin xyz="-0.01401 -0.0079 -0.020748" rpy="0 0 0"/>
    <parent link="Elbow_Bracket_01_1__1"/>
    <child link="Hand_Football_Player_05_1"/>
    <axis xyz="0.984808 0.0 0.173648"/>
    <limit upper="0.174533" lower="-1.919862" effort="100" velocity="100"/>
  </joint>
  <joint name="right_elbow_pitch" type="revolute">
    <origin xyz="0.01401 -0.0079 -0.020748" rpy="0 0 0"/>
    <parent link="Elbow_Bracket_01_1"/>
    <child link="Hand_Football_Player_05__1__1"/>
    <axis xyz="0.984808 0.0 -0.173648"/>
    <limit upper="0.174533" lower="-1.919862" effort="100" velocity="100"/>
  </joint>
  <joint name="left_shoulder_pitch" type="revolute">
    <origin xyz="0.0559 -0.01121 0.0494" rpy="0 0 0"/>
    <parent link="base_link"/>
    <child link="U_Lever_Carbon_2__1"/>
    <axis xyz="1.0 0.0 -0.0"/>
    <limit upper="3.141593" lower="-3.141593" effort="100" velocity="100"/>
  </joint>
  <joint name="right_shoulder_pitch" type="revolute">
    <origin xyz="-0.0559 -0.01121 0.0494" rpy="0 0 0"/>
    <parent link="base_link"/>
    <child link="U_Lever_Carbon_1__1"/>
    <axis xyz="-1.0 -0.0 0.0"/>
    <limit upper="3.141593" lower="-3.141593" effort="100" velocity="100"/>
  </joint>
  <joint name="left_upper_knee" type="revolute">
    <origin xyz="0.0 0.0 -0.0825" rpy="0 0 0"/>
    <parent link="Hip_Shin_Carbon_2"/>
    <child link="Knee_1__1"/>
    <axis xyz="1.0 0.0 -0.0"/>
    <limit upper="2.094395" lower="-0.087266" effort="100" velocity="100"/>
  </joint>
  <joint name="left_bottom_knee" type="revolute">
    <origin xyz="0.0 0.0 -0.033" rpy="0 0 0"/>
    <parent link="Knee_1__1"/>
    <child link="Hip_Shin_Carbon_1__1__1"/>
    <axis xyz="1.0 0.0 -0.0"/>
    <limit upper="2.094395" lower="-0.087266" effort="100" velocity="100"/>
  </joint>
  <joint name="right_upper_knee" type="revolute">
    <origin xyz="-0.04 0.0 -0.0825" rpy="0 0 0"/>
    <parent link="Hip_Shin_Carbon_1__1"/>
    <child link="Knee_1__1__1"/>
    <axis xyz="1.0 -0.0 -0.0"/>
    <limit upper="2.094395" lower="-0.087266" effort="100" velocity="100"/>
  </joint>
  <joint name="right_bottom_knee" type="revolute">
    <origin xyz="0.0398 0.0 -0.033" rpy="0 0 0"/>
    <parent link="Knee_1__1__1"/>
    <child link="Hip_Shin_Carbon_2__1"/>
    <axis xyz="1.0 -0.0 0.0"/>
    <limit upper="2.094395" lower="-0.087266" effort="100" velocity="100"/>
  </joint>
  <joint name="right_ankle_pitch" type="revolute">
    <origin xyz="-0.04 0.0 -0.0825" rpy="0 0 0"/>
    <parent link="Hip_Shin_Carbon_2__1"/>
    <child link="Dual_Servo_Al_022_3"/>
    <axis xyz="1.0 0.0 -0.0"/>
    <limit upper="1.22173" lower="-0.785398" effort="100" velocity="100"/>
  </joint>
  <joint name="left_ankle_roll" type="revolute">
    <origin xyz="0.0194 0.0221 0.0" rpy="0 0 0"/>
    <parent link="roki2_simlify_Dual_Servo_Al_022Copyv1_2"/>
    <child link="Shoe_Flex_1__1"/>
    <axis xyz="0.0 1.0 -0.0"/>
    <limit upper="0.523599" lower="-0.523599" effort="100" velocity="100"/>
  </joint>
  <joint name="left_ankle_pitch" type="revolute">
    <origin xyz="0.0 0.0 -0.0825" rpy="0 0 0"/>
    <parent link="Hip_Shin_Carbon_1__1__1"/>
    <child link="roki2_simlify_Dual_Servo_Al_022Copyv1_2"/>
    <axis xyz="1.0 0.0 -0.0"/>
    <limit upper="0.872665" lower="-0.698132" effort="100" velocity="100"/>
  </joint>
  <joint name="right_ankle_roll" type="revolute">
    <origin xyz="0.020406 -0.026478 0.000149" rpy="0 0 0"/>
    <parent link="Dual_Servo_Al_022_3"/>
    <child link="Shoe_Flex_1"/>
    <axis xyz="-0.0 1.0 -0.0"/>
    <limit upper="0.523599" lower="-0.523599" effort="100" velocity="100"/>
  </joint>
  <joint name="right_hip_roll" type="revolute">
    <origin xyz="0.0 0.0211 -0.032" rpy="0 0 0"/>
    <parent link="U_Dual_Lever_Carbon_2"/>
    <child link="Dual_Servo_Al_022__1__1"/>
    <axis xyz="-0.0 1.0 -0.0"/>
    <limit upper="0.523599" lower="-0.523599" effort="100" velocity="100"/>
  </joint>
  <joint name="left_hip_roll" type="revolute">
    <origin xyz="0.0 0.0211 -0.032" rpy="0 0 0"/>
    <parent link="U_Dual_Lever_Carbon_1__1"/>
    <child link="roki2_simlify_Dual_Servo_Al_022Copyv1__1__1"/>
    <axis xyz="-0.0 1.0 -0.0"/>
    <limit upper="0.523599" lower="-0.523599" effort="100" velocity="100"/>
  </joint>
  <joint name="left_hip_pitch" type="revolute">
    <origin xyz="-0.0204 -0.0221 0.0" rpy="0 0 0"/>
    <parent link="roki2_simlify_Dual_Servo_Al_022Copyv1__1__1"/>
    <child link="Hip_Shin_Carbon_2"/>
    <axis xyz="1.0 0.0 -0.0"/>
    <limit upper="2.094395" lower="-1.745329" effort="100" velocity="100"/>
  </joint>
  <joint name="right_hip_pitch" type="revolute">
    <origin xyz="0.0204 -0.0221 0.0" rpy="0 0 0"/>
    <parent link="Dual_Servo_Al_022__1__1"/>
    <child link="Hip_Shin_Carbon_1__1"/>
    <axis xyz="1.0 -0.0 -0.0"/>
    <limit upper="2.094395" lower="-1.745329" effort="100" velocity="100"/>
  </joint>
</robot>
